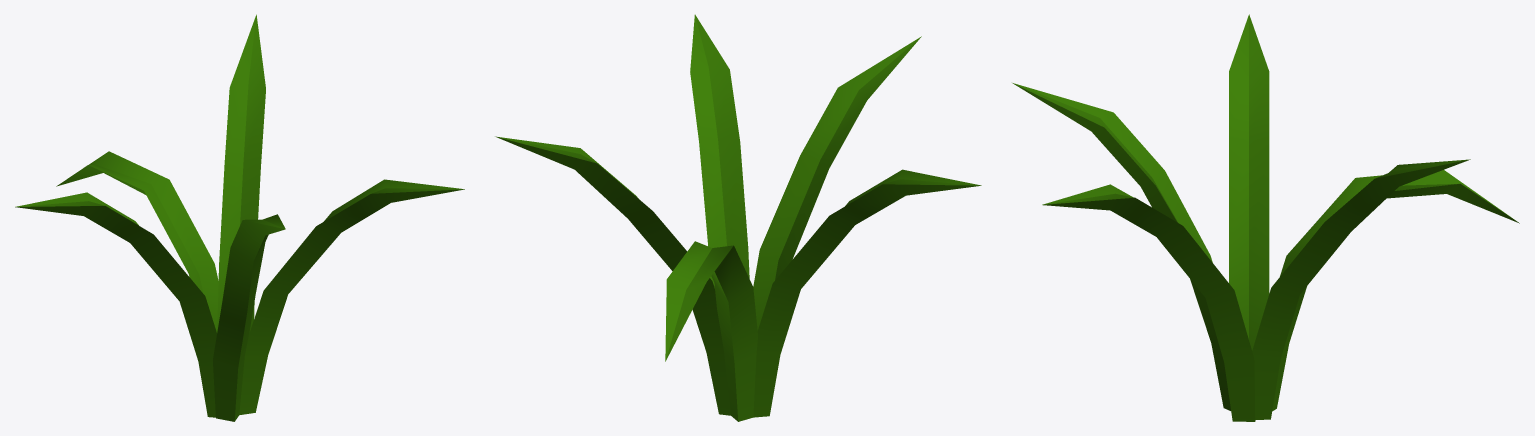
File: fern.fbx
The picture shows the model from 3 angles, left to right: view 1: azimuth 30°, elevation 25°; view 2: azimuth 150°, elevation 25°; view 3: azimuth 270°, elevation 25°; orthographic projection. The views are drawn at different scales.
Parts seen in each view (by area): view 1: varen; view 2: varen; view 3: varen.
Part boxes in pixels (bbox=[...]): varen: bbox=[15, 14, 464, 421]; varen: bbox=[495, 14, 981, 421]; varen: bbox=[1012, 14, 1519, 421].
Bounding box in the file's own units: 2.26 × 1.77 × 2.54.
